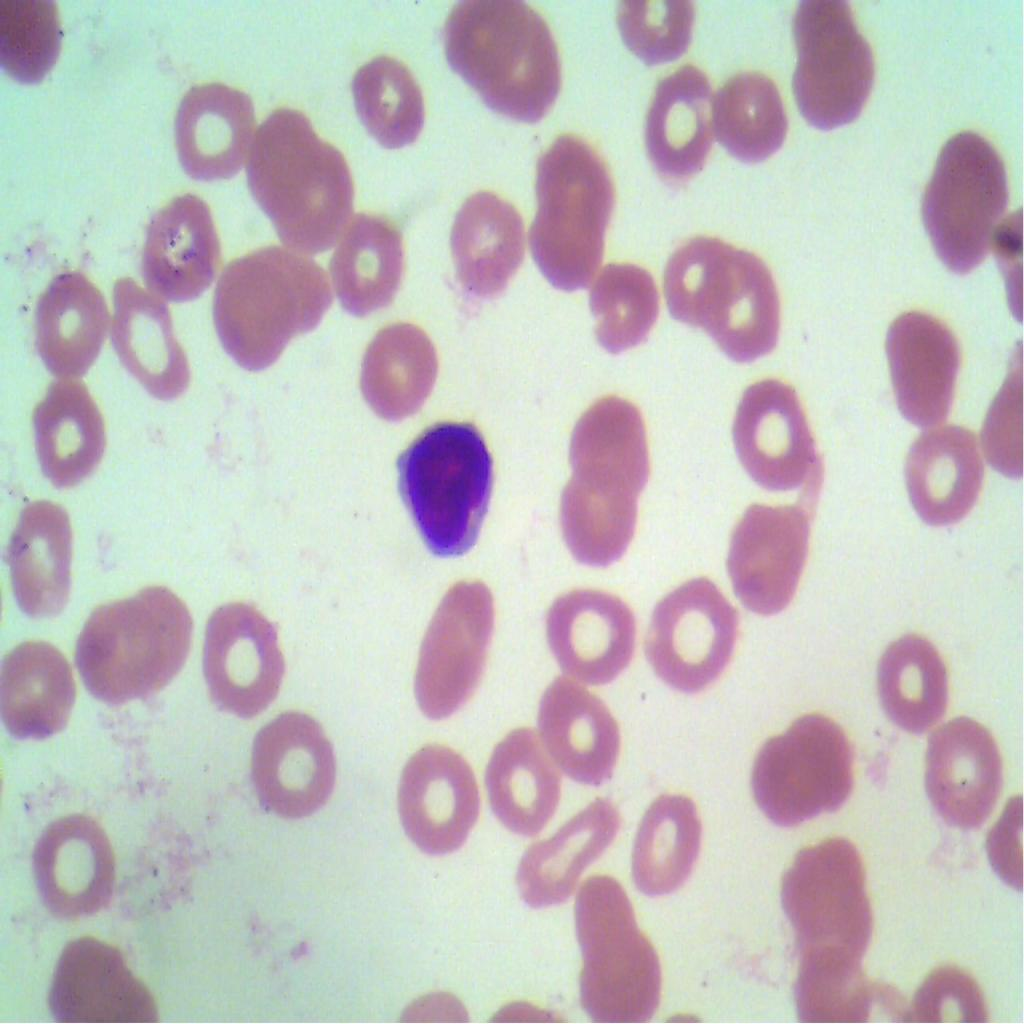Eritrosit: (712, 479, 819, 625), (918, 122, 1008, 288), (102, 258, 192, 418), (402, 569, 494, 724), (512, 791, 622, 911), (870, 291, 964, 426), (638, 575, 750, 688), (193, 586, 290, 714), (914, 707, 1005, 842), (246, 705, 343, 831), (32, 809, 126, 931), (778, 832, 875, 948), (724, 371, 818, 489), (0, 494, 87, 621), (343, 41, 433, 162), (477, 11, 568, 130), (542, 582, 640, 692), (526, 198, 622, 308), (543, 465, 639, 574), (394, 744, 480, 865), (788, 28, 882, 138), (622, 785, 708, 905), (526, 669, 623, 775), (348, 312, 443, 420), (26, 257, 110, 378), (707, 252, 790, 372), (208, 257, 290, 378), (243, 237, 338, 341), (142, 188, 227, 301), (120, 584, 203, 698), (165, 78, 253, 183), (710, 58, 794, 168), (786, 924, 879, 1023), (876, 628, 958, 740), (0, 634, 83, 744), (477, 719, 559, 829), (910, 414, 986, 531), (28, 376, 106, 488), (439, 191, 523, 295), (330, 216, 412, 321), (570, 395, 654, 497), (576, 928, 666, 1023), (280, 150, 362, 252), (660, 221, 740, 324), (588, 257, 666, 361), (637, 64, 708, 175), (782, 714, 860, 815), (439, 1, 528, 84), (246, 101, 315, 207), (535, 134, 612, 228), (70, 604, 143, 698), (572, 876, 642, 970), (0, 0, 68, 94), (752, 730, 812, 828), (613, 0, 693, 59)
Limfoblast: (392, 422, 497, 568)
